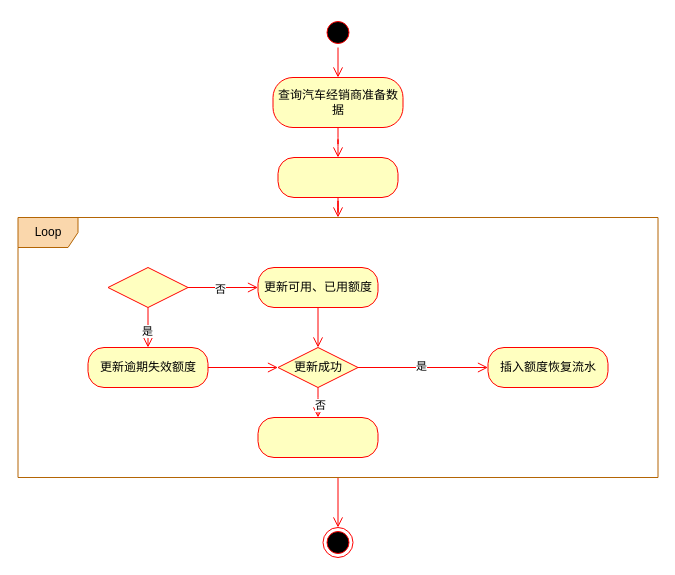
The diagram is 675 pixels wide and 575 high, and some of its shapes have lost their labels. Here are the shapes that lost their labels. From the top down, the centre of each, then its label:
(337,177): 关联查询授信台账信息
(147,287): 是否到期
(317,437): 插入异常额度恢复流水
